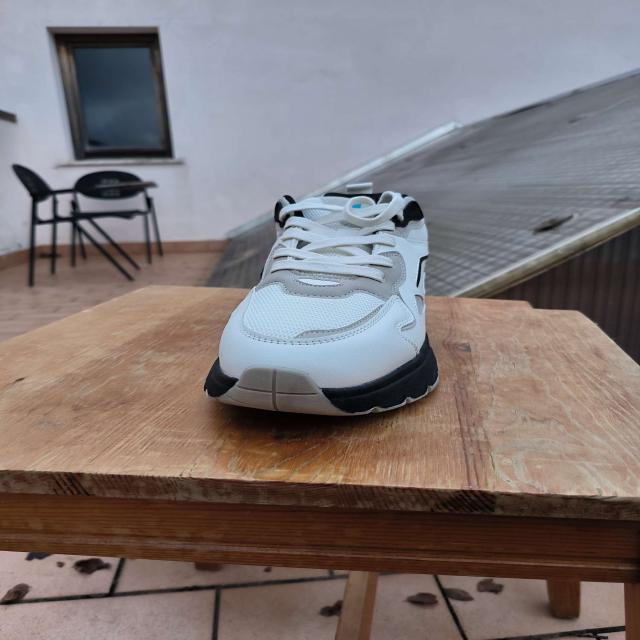shoe: (202, 182, 442, 418)
